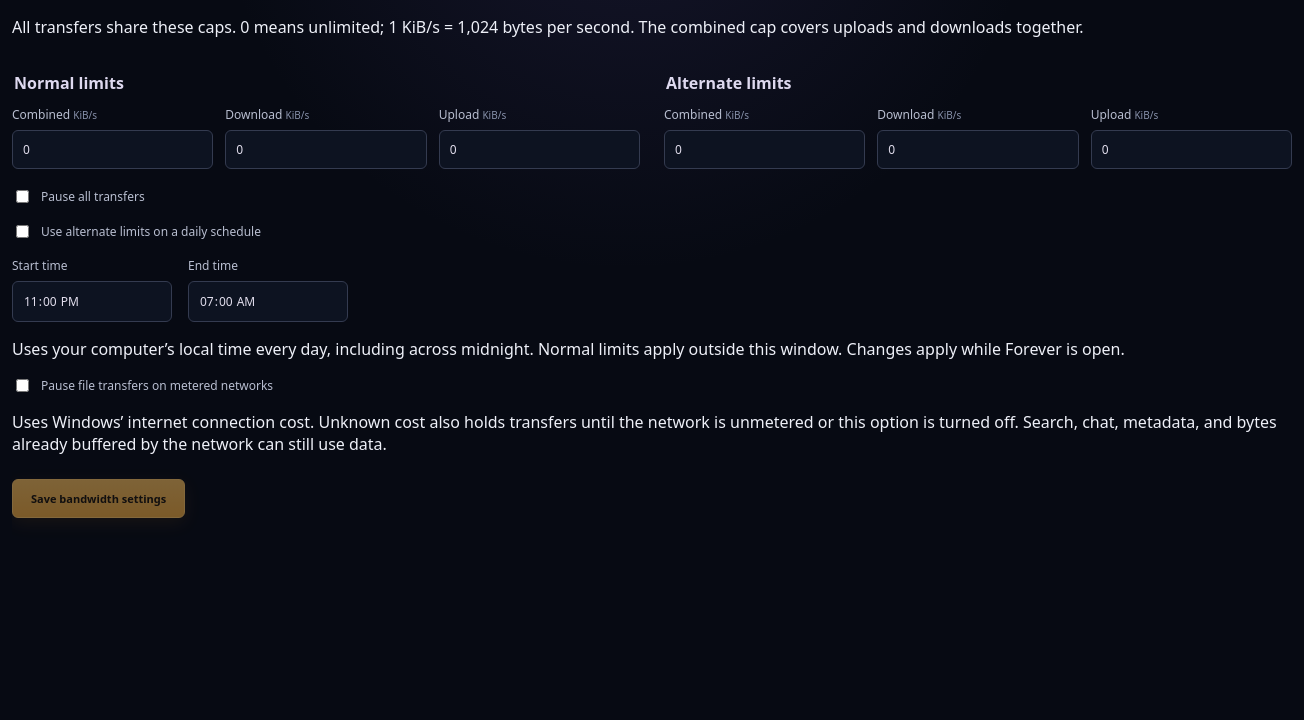
Test: bandwidth policy › keeps the draft and reports a failed save
Replace the text in the number field named "Normal download limit" with "64" at point(326, 150), box x1=225 y1=130 x2=427 y2=169
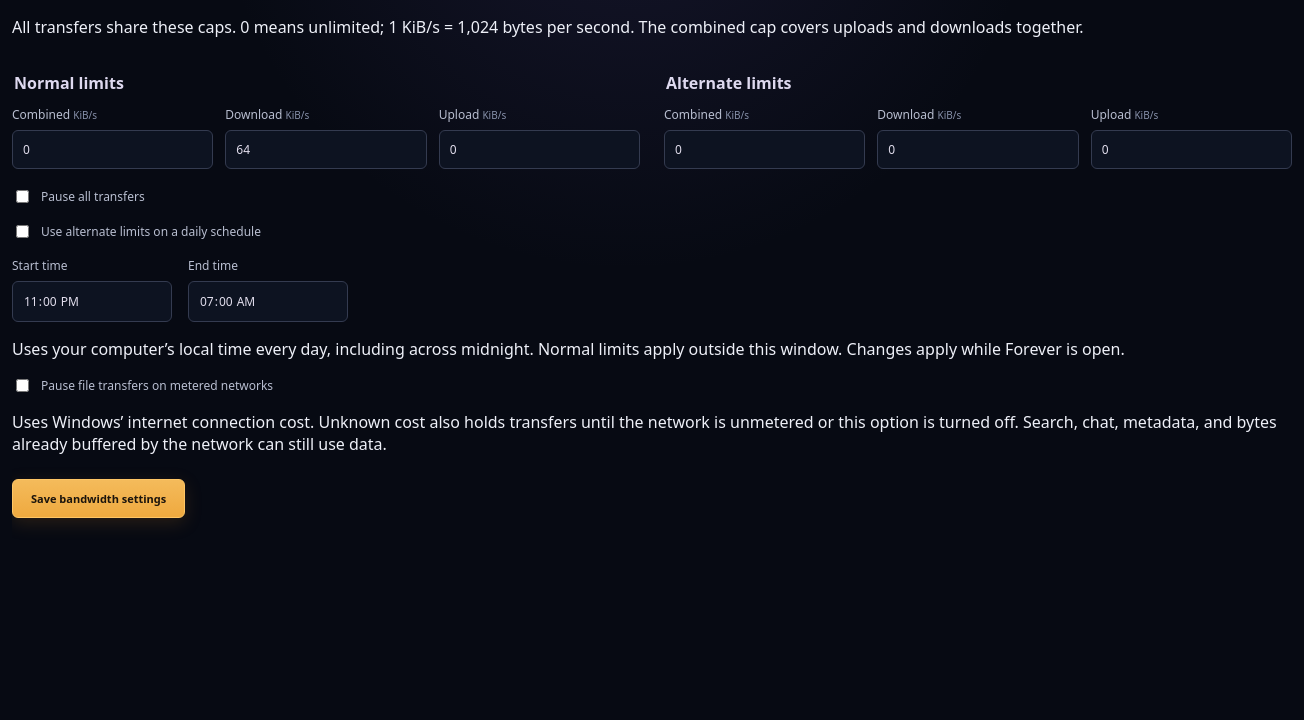
Click the button "Save bandwidth settings" at point(99, 498), box x1=12 y1=479 x2=185 y2=518
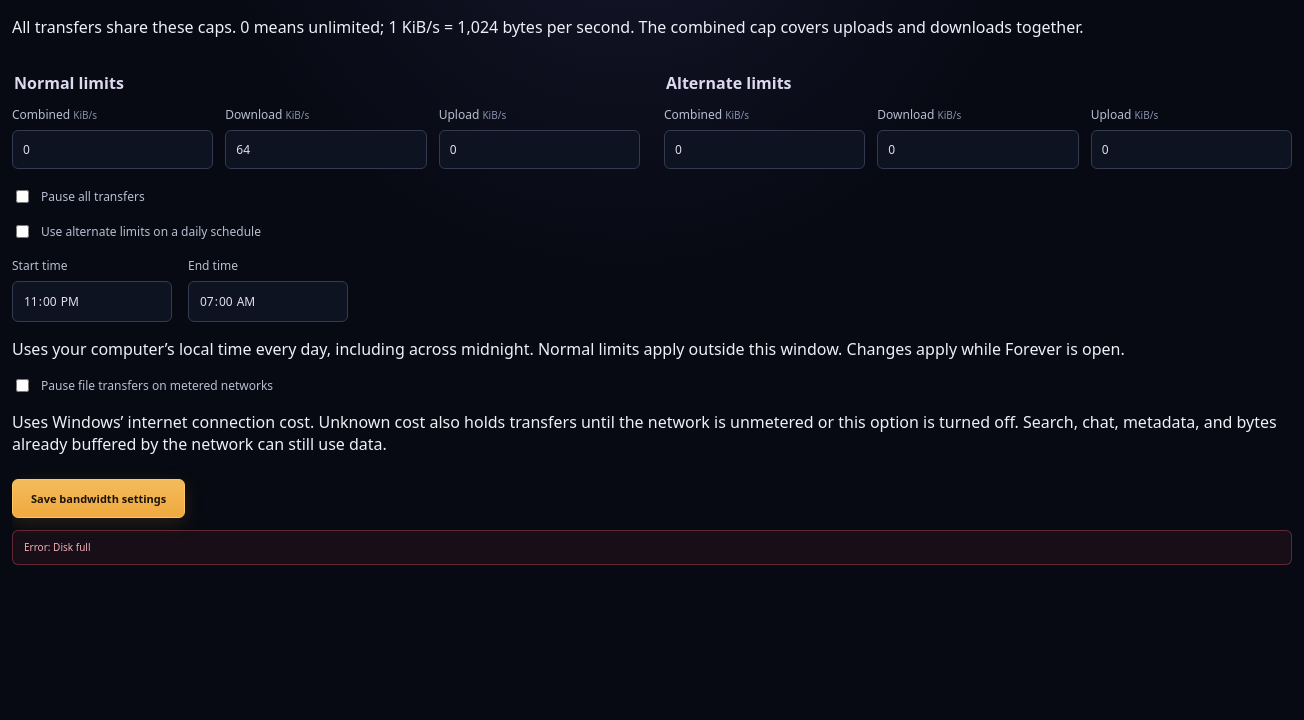
expect the message shows "Disk full": met, box x1=24 y1=540 x2=90 y2=554
